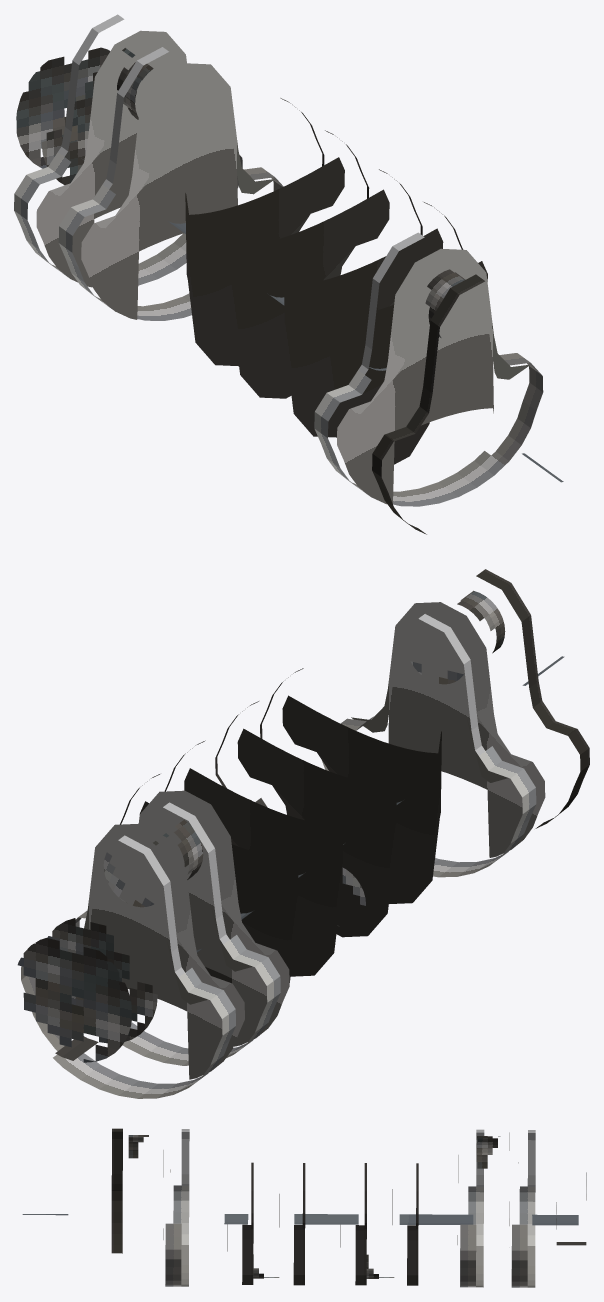
File: crankshaft.fbx
3 renders of one model, top to bottom at view 1: azimuth 30°, elevation 25°; view 2: azimuth 150°, elevation 25°; view 3: azimuth 270°, elevation 25°, orthographic. The views are drawn at different scales.
Visible parts, largest first — view 1: crankshaft; view 2: crankshaft; view 3: crankshaft.
Part boxes in pixels (x1,y1,x2,y2): crankshaft: (14,14,563,534); crankshaft: (17,569,589,1098); crankshaft: (22,1128,586,1287).
Size of the model in its own units: 0.1146 by 0.137 by 0.4724.
